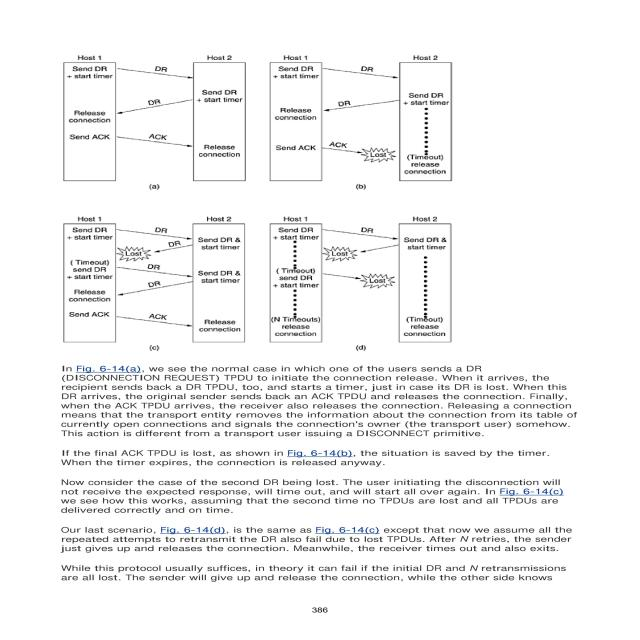diagram: (16, 46, 602, 442)
